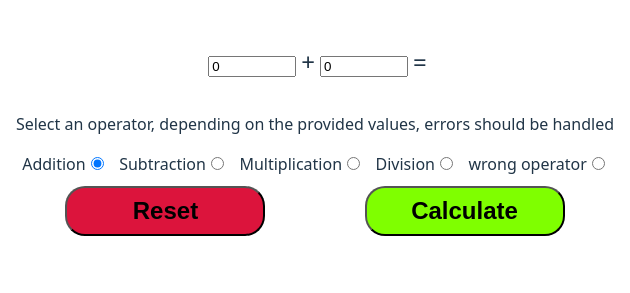
Test: CalculateForm Test › Substractions › with negative numbers › only first input is negative, output should be negative
Click the radio button with id "substraction".
click(217, 164)  # box x1=211 y1=157 x2=224 y2=170
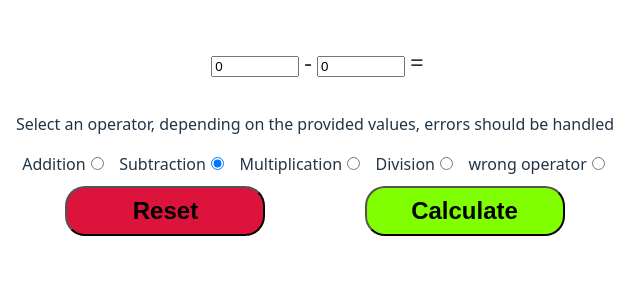
Replace the text in the number field with id "input1" with "-2" at (255, 66), box x1=211 y1=56 x2=299 y2=77
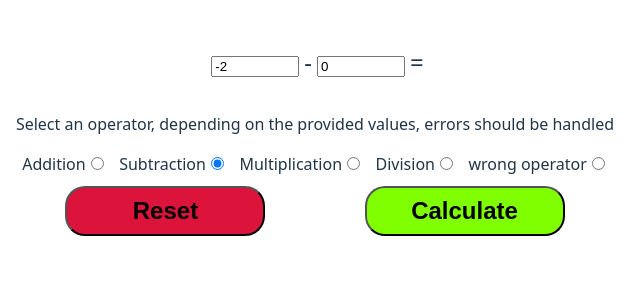
Replace the text in the number field with id "input2" with "3" at (361, 66), box x1=317 y1=56 x2=405 y2=77
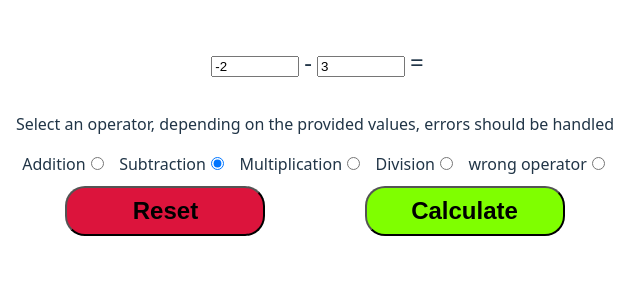
Click the button "Calculate".
click(464, 211)  # box x1=364 y1=186 x2=564 y2=236
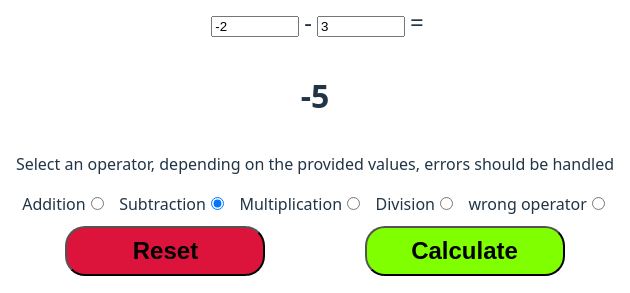
Now the text with id "result" reads "-5", box x1=301 y1=74 x2=329 y2=117
